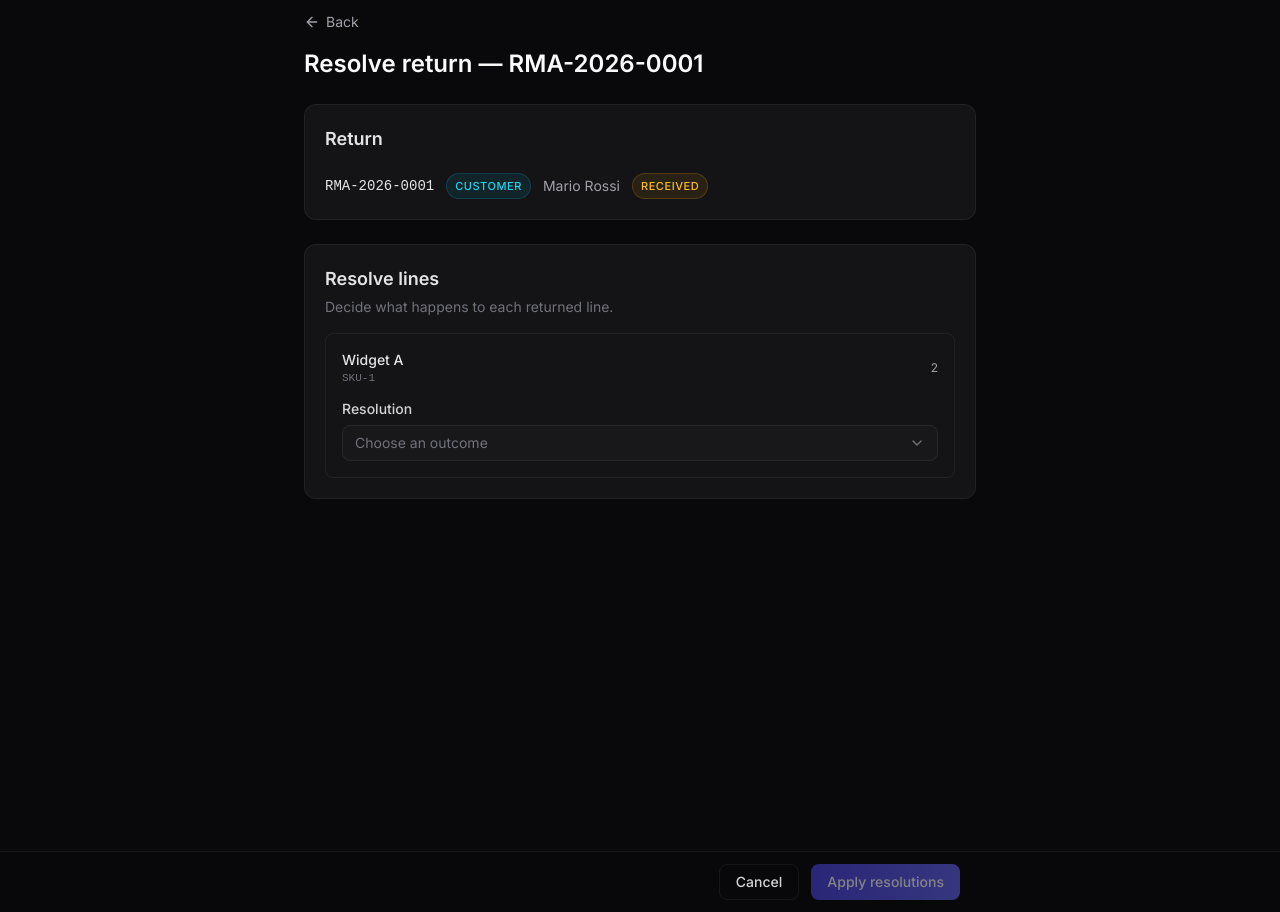
Test case: ReturnOrderResolve › offers the three resolution outcomes
Only one PENDING line → exactly one resolution picker (placeholder).
Click the dropdown "Choose an outcome".
click(421, 442)  # box [342,424,938,460]
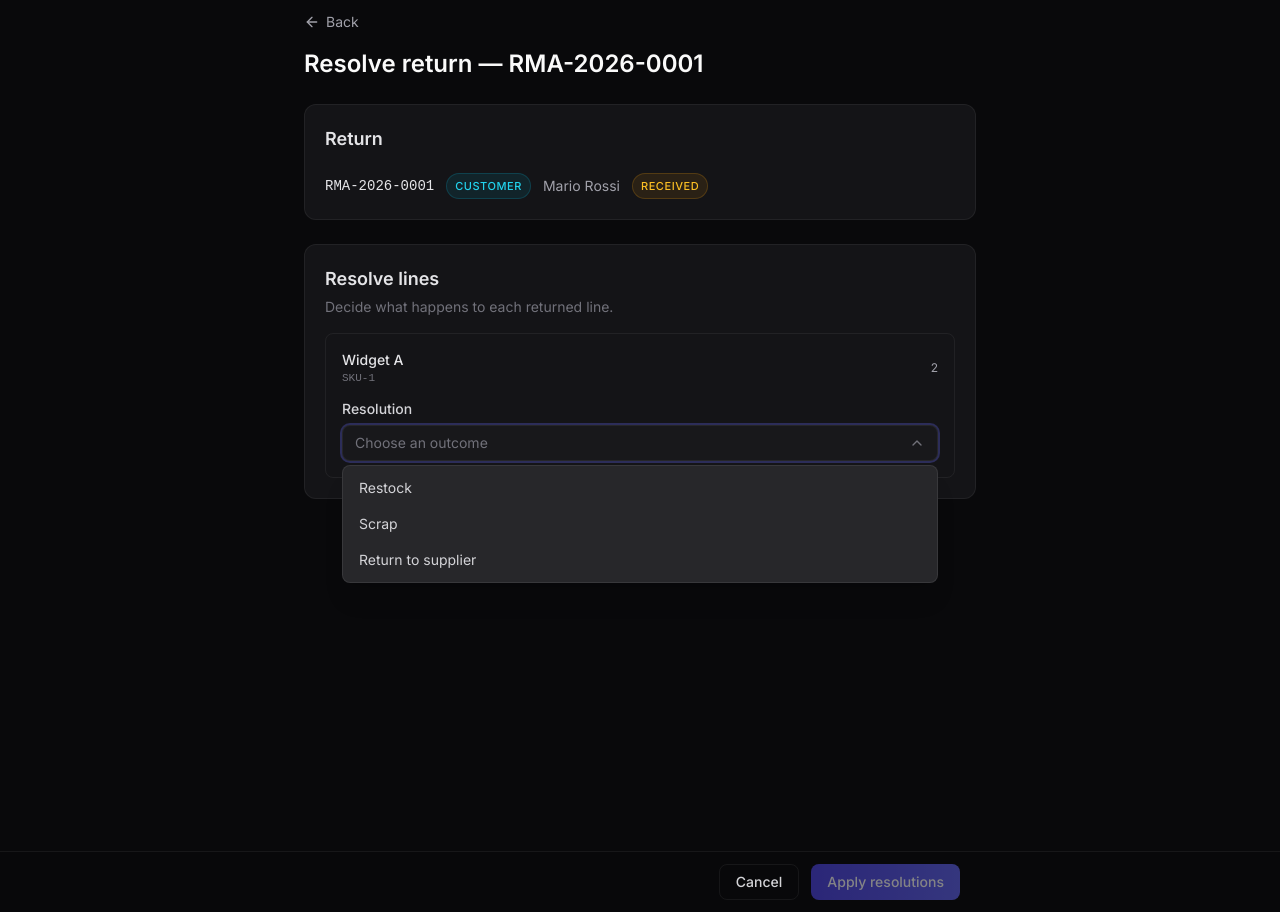
Expected: the text "Restock" is shown, [359,478,412,498]
Expected: the text "Scrap" is shown, [359,514,398,534]
Expected: the text "Return to supplier" is shown, [359,550,476,570]
